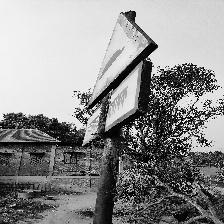Speed-breaker: (88, 6, 151, 142)
